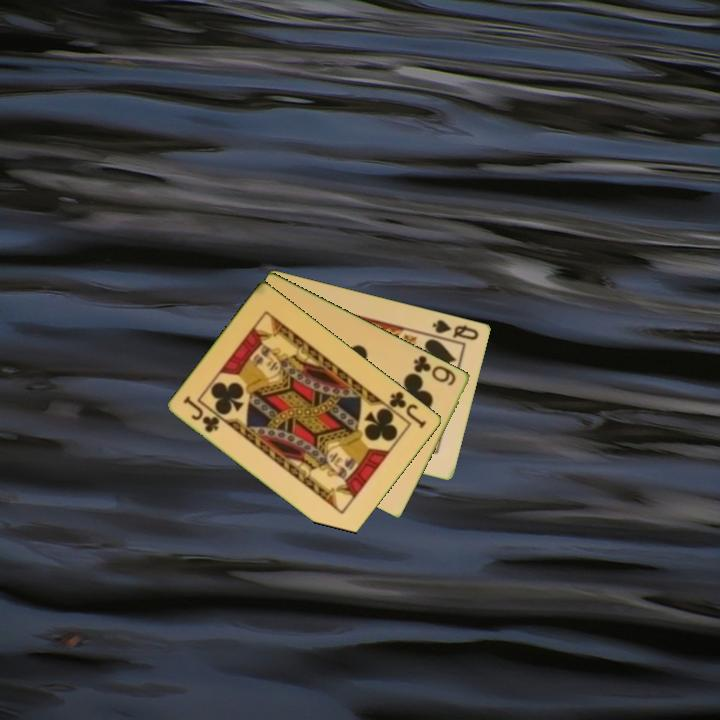6c: (410, 351, 459, 388)
Jc: (380, 388, 430, 431), (180, 393, 223, 436)
Qs: (429, 316, 482, 343)
